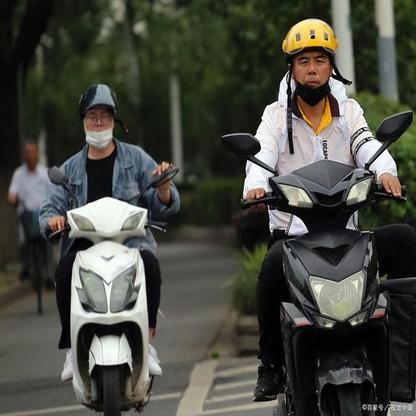target: (216, 16, 412, 409), (34, 82, 180, 410)
